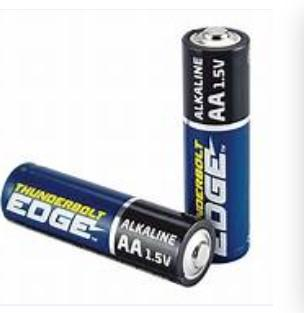Battery: (1, 163, 215, 287)
